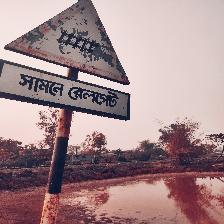Rail-crossing: (0, 0, 132, 121)
